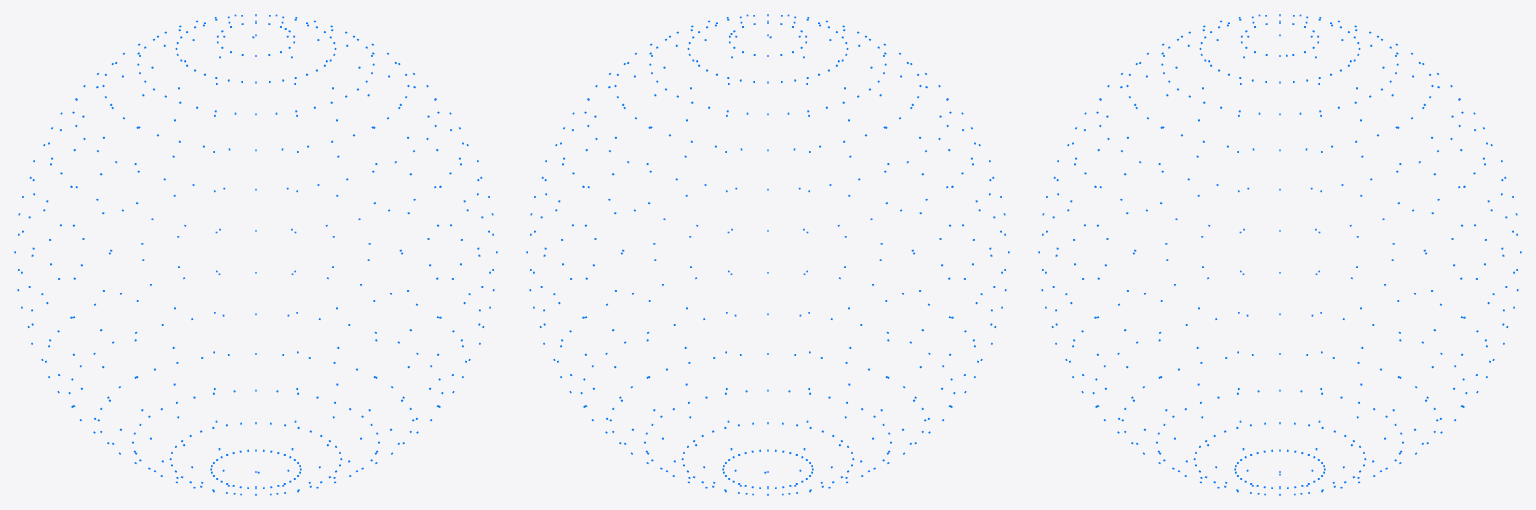
The model's file is particles_kula_centralna.glb.
The picture shows the model from 3 angles, left to right: view 1: azimuth 30°, elevation 25°; view 2: azimuth 150°, elevation 25°; view 3: azimuth 270°, elevation 25°; orthographic projection.
Parts seen in each view (by area): view 1: emmisive_particles_kula centralna; view 2: emmisive_particles_kula centralna; view 3: emmisive_particles_kula centralna.
Part boxes in pixels (<box>): emmisive_particles_kula centralna: <box>14,14,497,495</box>; emmisive_particles_kula centralna: <box>526,14,1009,495</box>; emmisive_particles_kula centralna: <box>1038,14,1521,495</box>.
Size of the model in its own units: 6.79 by 6.79 by 6.79.
